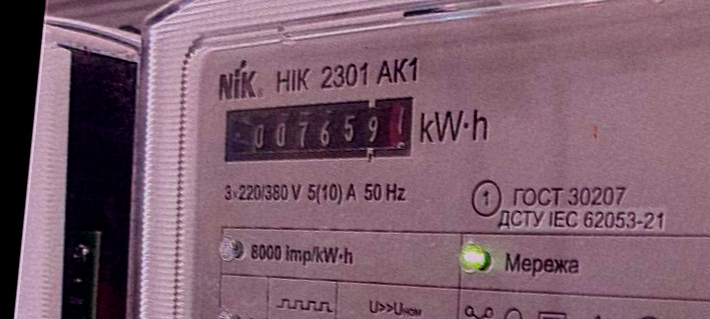0: (251, 120, 267, 150), (273, 121, 288, 149)
1: (392, 105, 407, 137)
5: (339, 112, 357, 146)
6: (317, 117, 333, 149)
7: (294, 117, 311, 150)
9: (363, 112, 381, 147)
screen: (206, 71, 436, 188)
